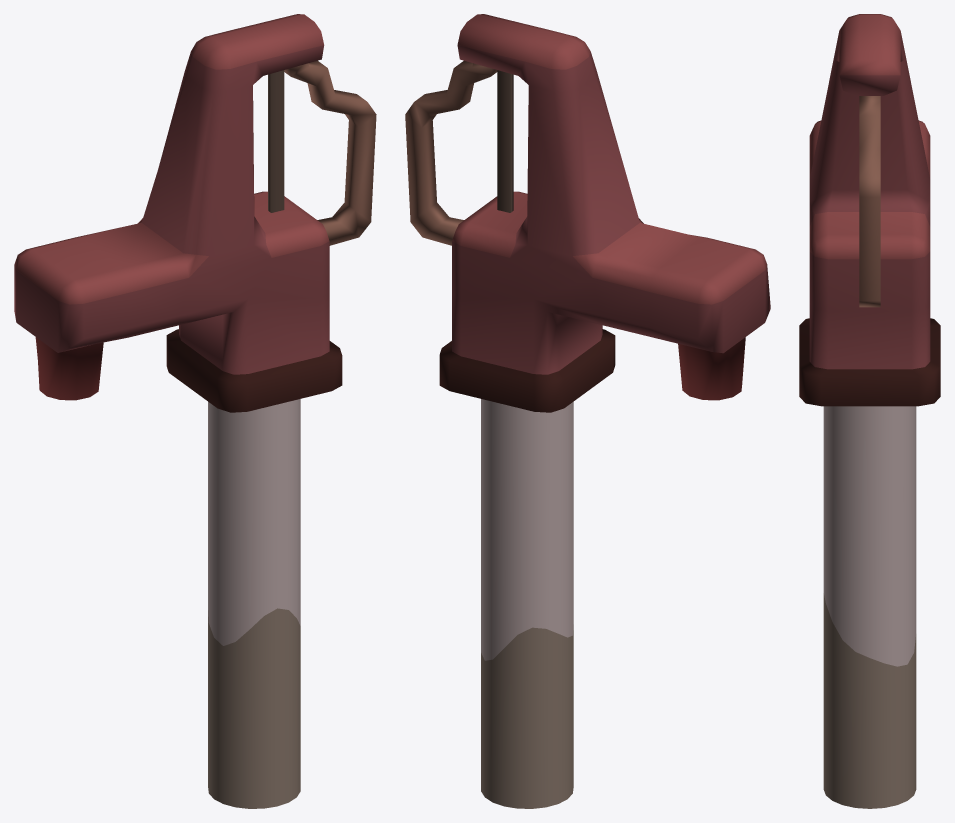
File: Spigot.fbx
The picture shows the model from 3 angles, left to right: view 1: azimuth 30°, elevation 25°; view 2: azimuth 150°, elevation 25°; view 3: azimuth 270°, elevation 25°; orthographic projection.
Parts seen in each view (by area): view 1: Spigot; view 2: Spigot; view 3: Spigot.
Part boxes in pixels (box(x1,y1,x2,y2)): Spigot: box(14, 14, 376, 808); Spigot: box(405, 14, 770, 808); Spigot: box(799, 14, 940, 808).
Bounding box in the file's own units: 43.34 × 93.99 × 15.9.
